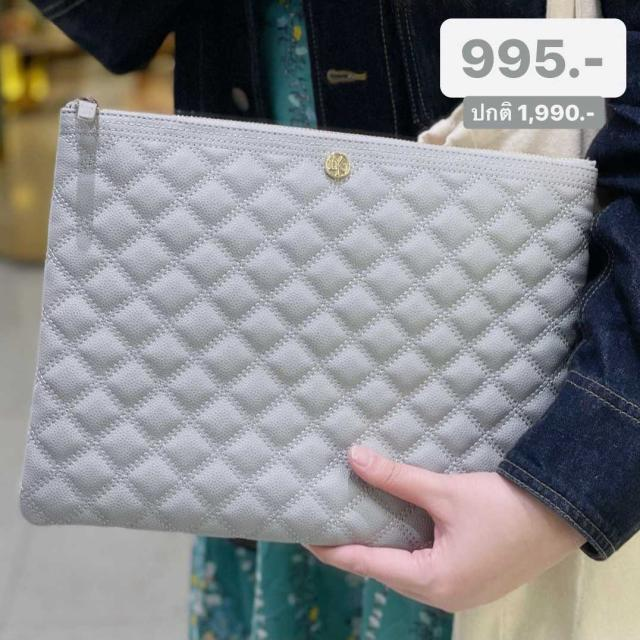Handbag: (18, 94, 594, 551)
